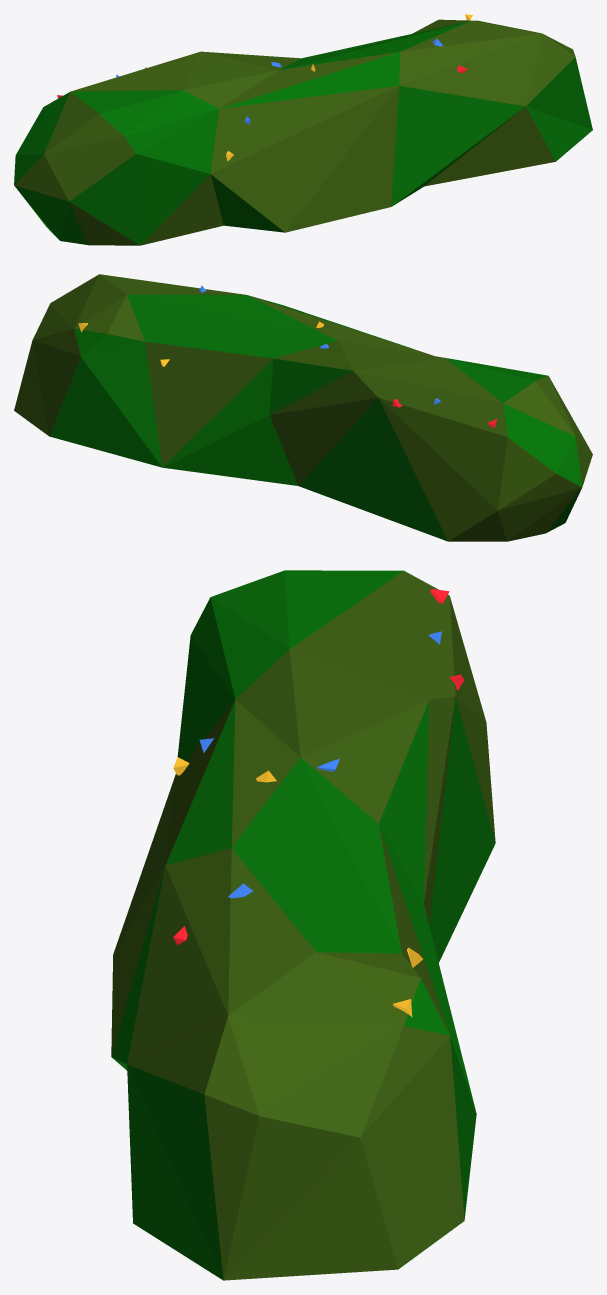
File: HWN20_Bush.glb
3 views of the same model, one above another, from view 1: azimuth 30°, elevation 25°; view 2: azimuth 150°, elevation 25°; view 3: azimuth 270°, elevation 25° (orthographic). The views are drawn at different scales.
Parts seen in each view (by area): view 1: HWN20_Bush; view 2: HWN20_Bush; view 3: HWN20_Bush.
Boxes of the visible parts, x1,y1,x2,y2 form: HWN20_Bush: (14,14,592,245); HWN20_Bush: (14,274,592,541); HWN20_Bush: (111,570,495,1280).
Size of the model in its own units: 7.21 by 1.6 by 2.21.
2 materials, 2 textured.
